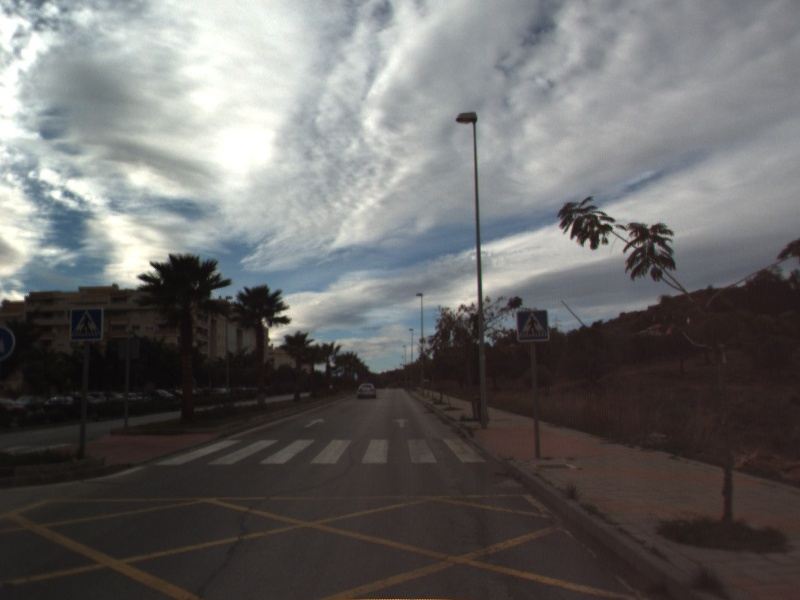STRAIGHT: (302, 416, 327, 430), (391, 416, 412, 429)
